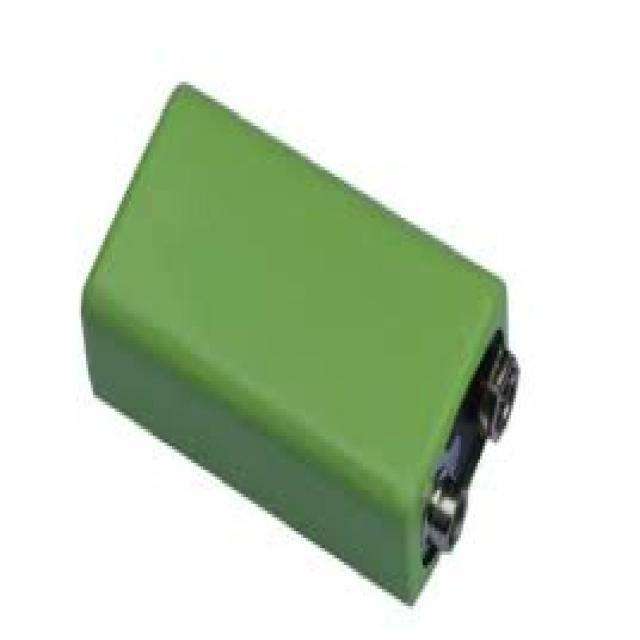battery: (82, 78, 517, 610)
